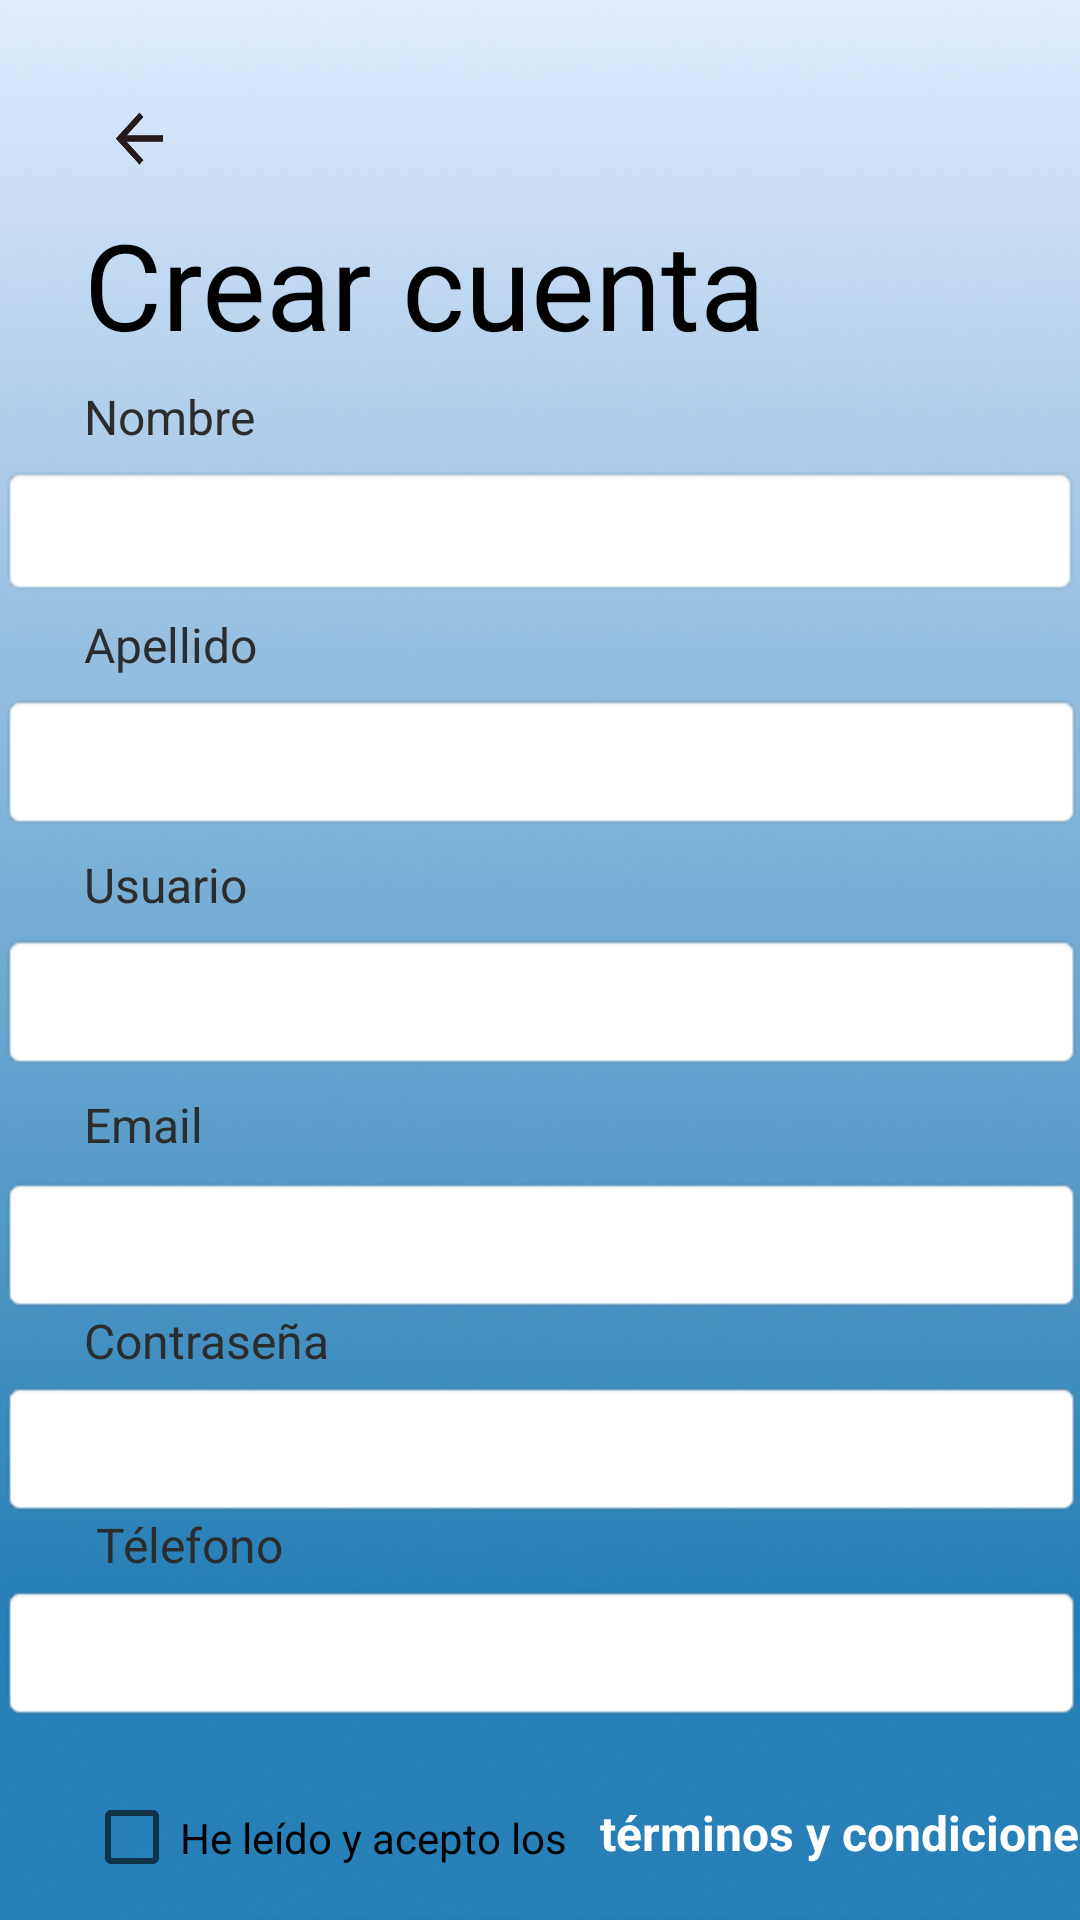

Locate icon controls on the screen. Image size 1080×1920, boxes as (x1, y1, x2, y2).
flecha atras negra: (116, 112, 163, 165)
